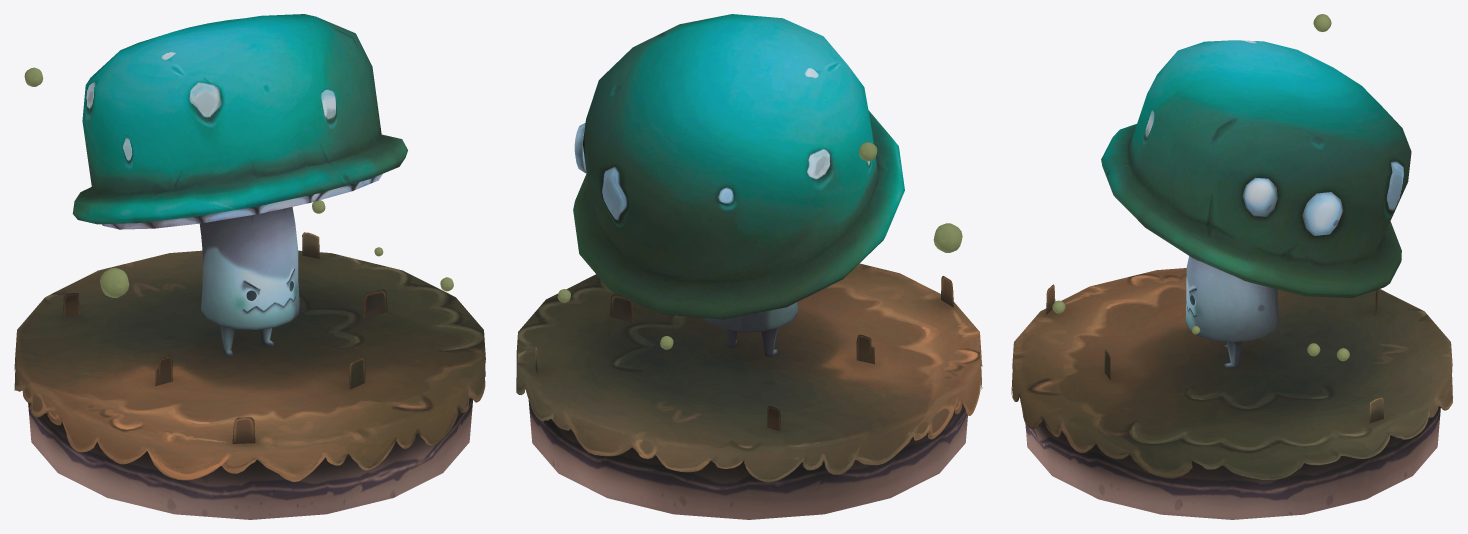
The model's file is mushroom214.gltf.
The picture shows the model from 3 angles, left to right: view 1: azimuth 30°, elevation 25°; view 2: azimuth 150°, elevation 25°; view 3: azimuth 270°, elevation 25°; orthographic projection. The views are drawn at different scales.
Visible parts, largest first — view 1: Mesh_0, Mesh_1; view 2: Mesh_0, Mesh_1; view 3: Mesh_0, Mesh_1.
Part boxes in pixels (bbox=[...]): Mesh_0: bbox=[14, 67, 485, 519]; Mesh_1: bbox=[72, 14, 407, 356]; Mesh_0: bbox=[516, 142, 982, 519]; Mesh_1: bbox=[573, 14, 904, 356]; Mesh_0: bbox=[1011, 14, 1452, 519]; Mesh_1: bbox=[1101, 40, 1411, 367].
Bounding box in the file's own units: 2.97 × 2.71 × 2.92.
Materials: 2 (2 with a texture image).
